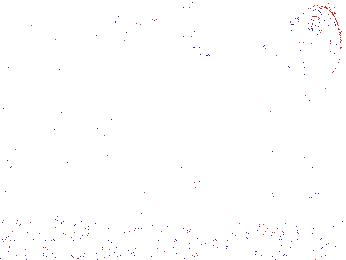moon jellyfish: (239, 40, 334, 117), (280, 5, 342, 98), (113, 12, 166, 101), (176, 2, 244, 60), (137, 17, 191, 76)
